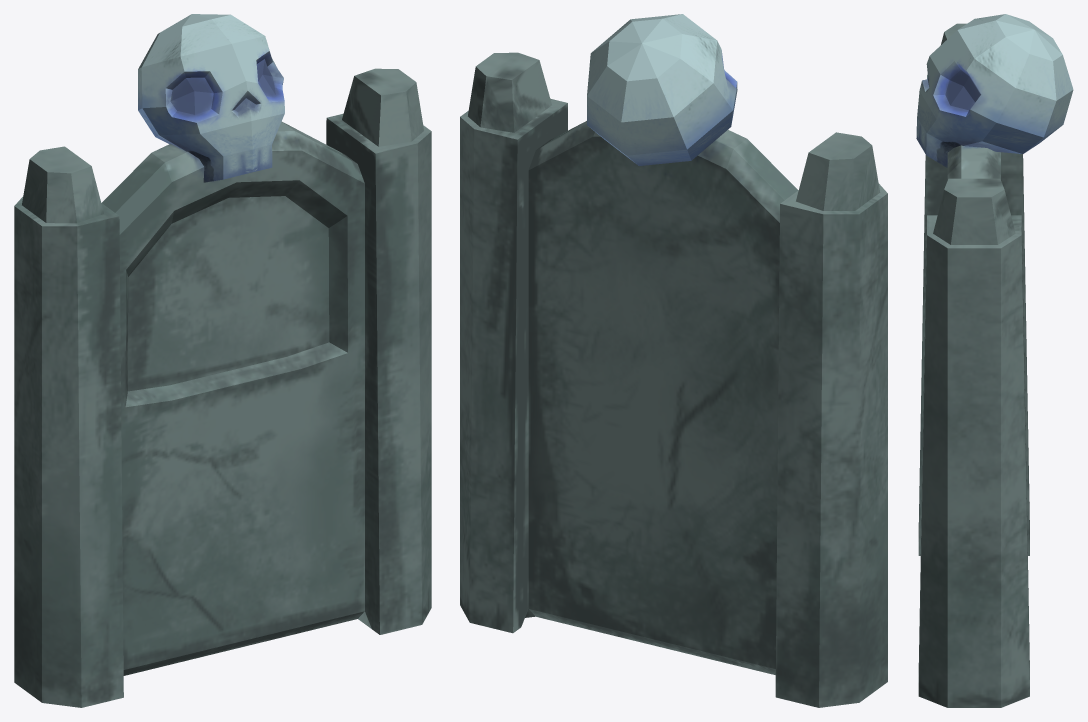
The model's file is tombstone_05.fbx.
3 renders of one model, left to right at view 1: azimuth 30°, elevation 25°; view 2: azimuth 150°, elevation 25°; view 3: azimuth 270°, elevation 25°, orthographic. The views are drawn at different scales.
Parts seen in each view (by area): view 1: tombstone_body, skull; view 2: tombstone_body, skull; view 3: tombstone_body, skull.
Part boxes in pixels (left/top/right/bottom): tombstone_body: left=14, top=68, right=431, bottom=707; skull: left=138, top=14, right=284, bottom=182; tombstone_body: left=460, top=52, right=887, bottom=707; skull: left=587, top=14, right=737, bottom=165; tombstone_body: left=918, top=23, right=1029, bottom=707; skull: left=916, top=14, right=1073, bottom=167.
Size of the model in its own units: 5.63 by 8.54 by 2.04.
Materials: 1 (1 with a texture image).
